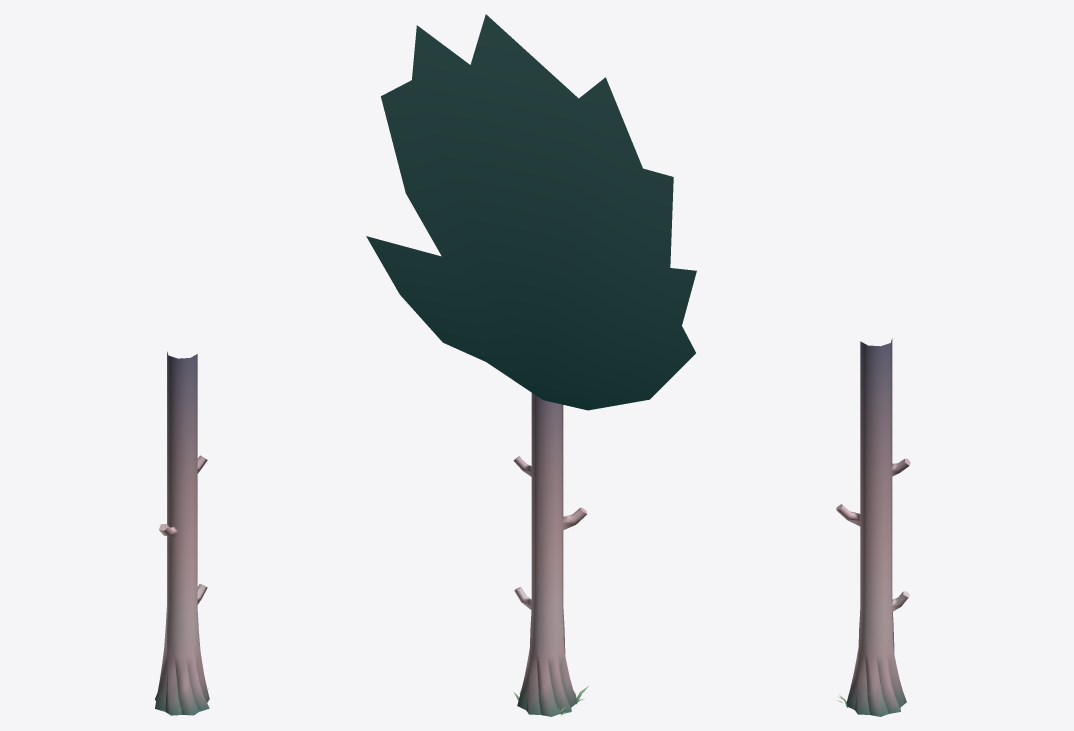
Rendered from prop_tall-tree_H3.glb.
3 renders of one model, left to right at view 1: azimuth 30°, elevation 25°; view 2: azimuth 150°, elevation 25°; view 3: azimuth 330°, elevation 25°, orthographic. The views are drawn at different scales.
Visible parts, largest first — view 1: prop_tall-tree_H3; view 2: prop_tall-tree_H3; view 3: prop_tall-tree_H3.
Boxes of the visible parts, <box> form: prop_tall-tree_H3: <box>155,351,209,715</box>; prop_tall-tree_H3: <box>366,14,696,716</box>; prop_tall-tree_H3: <box>836,338,910,716</box>.
Bounding box in the file's own units: 23.26 × 46.19 × 3.98.
